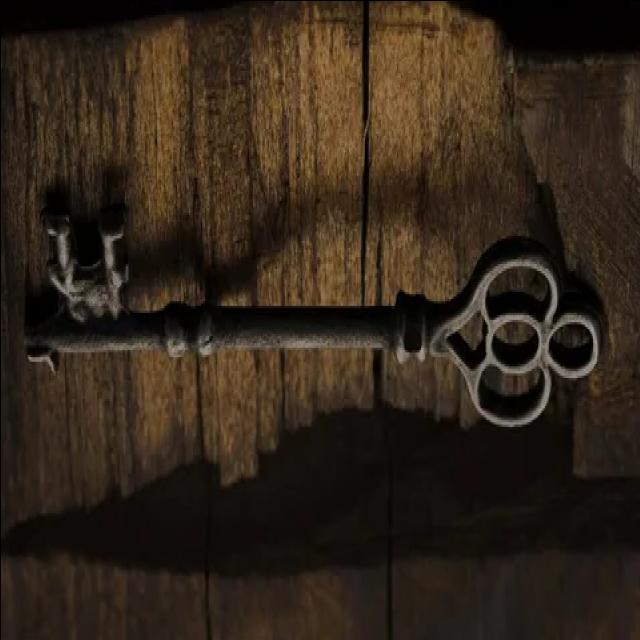key: (16, 195, 609, 442)
